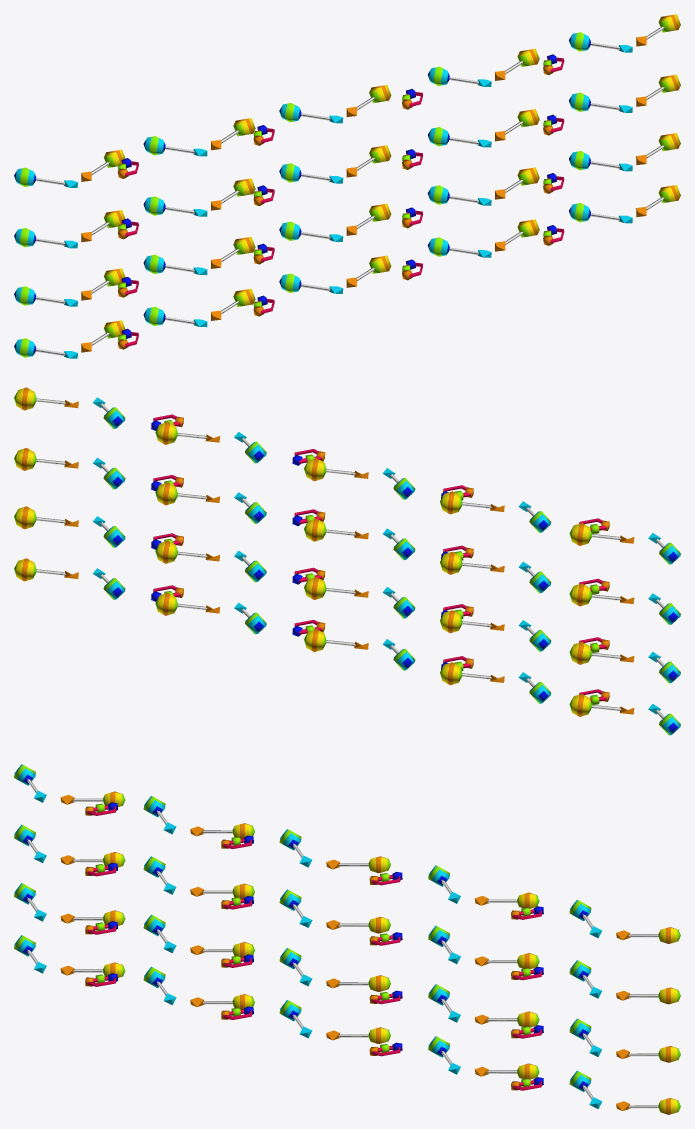
The model's file is Baby_Toys.fbx.
3 renders of one model, top to bottom at view 1: azimuth 30°, elevation 25°; view 2: azimuth 150°, elevation 25°; view 3: azimuth 330°, elevation 25°, orthographic.
Visible parts, largest first — view 1: Baby_Toys; view 2: Baby_Toys; view 3: Baby_Toys.
Part boxes in pixels (x1,y1,x2,y2): Baby_Toys: (14, 14, 680, 358); Baby_Toys: (14, 387, 680, 735); Baby_Toys: (14, 764, 680, 1114).
Bounding box in the file's own units: 4.55 × 1.27 × 0.3033.
